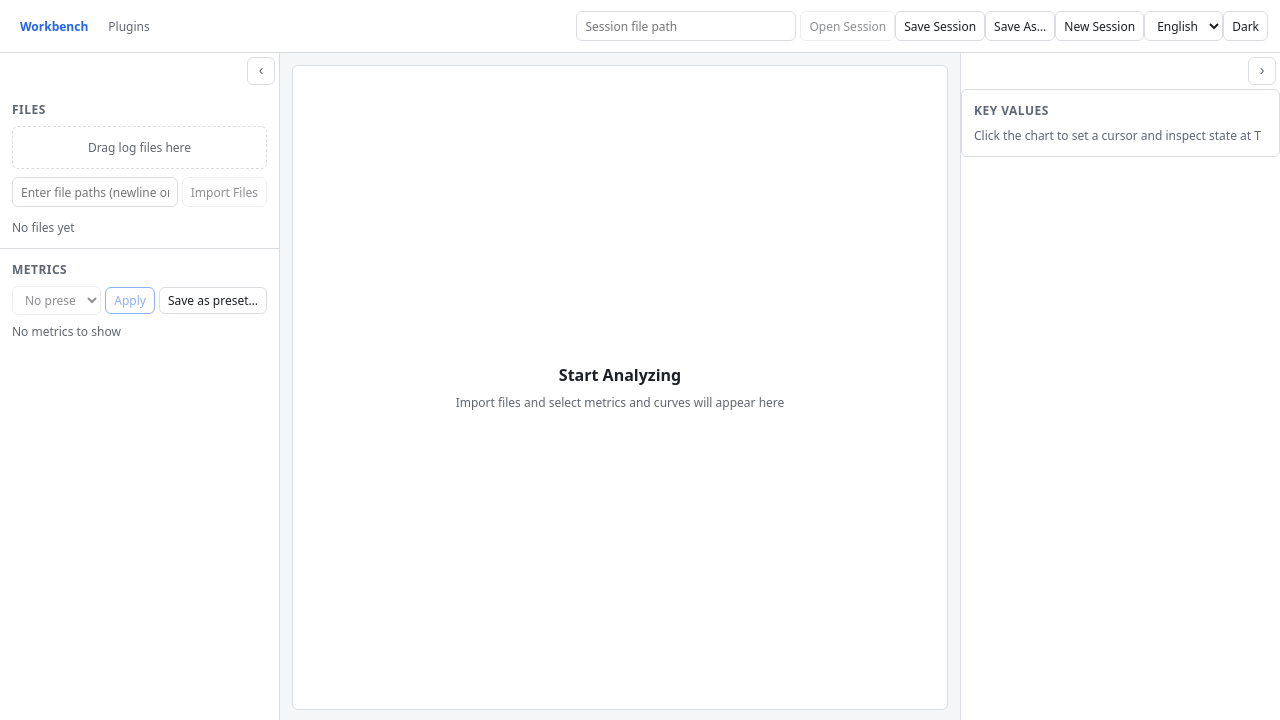
Test: AppShell (ipc-ui.md §4.1) › navigates to the plugins page via hash route
Click the button "Plugins". click: (129, 26)
box: [100,12,158,40]
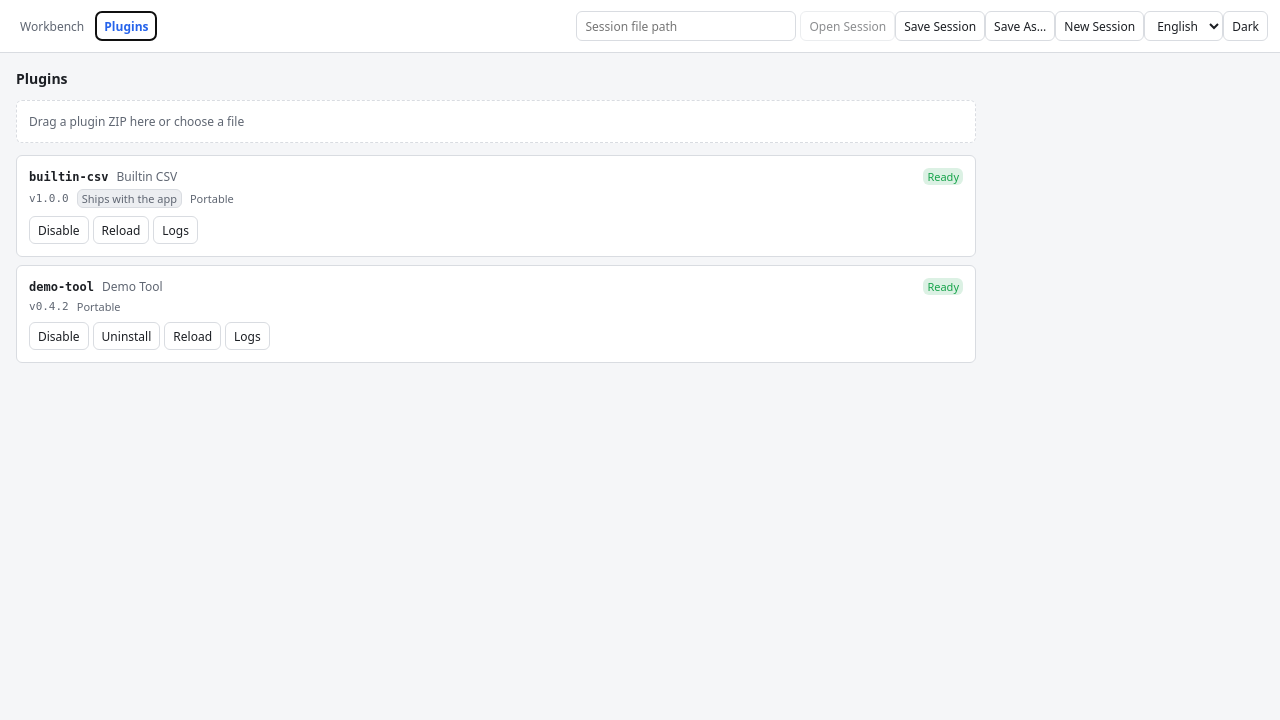
Expected: the element with test id "plugins-page" is shown, [16,69,976,363]
